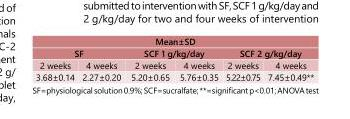table: (35, 34, 313, 82)
table column: (263, 34, 313, 82), (125, 34, 174, 82), (77, 34, 125, 82), (174, 34, 221, 82), (35, 34, 77, 82), (221, 34, 263, 82)
table projected row header: (35, 34, 313, 46)
table row: (35, 34, 313, 46), (35, 46, 313, 58), (35, 58, 313, 70), (35, 70, 313, 82)
table spanning cell: (125, 46, 221, 58), (221, 46, 313, 58), (35, 46, 125, 58)
